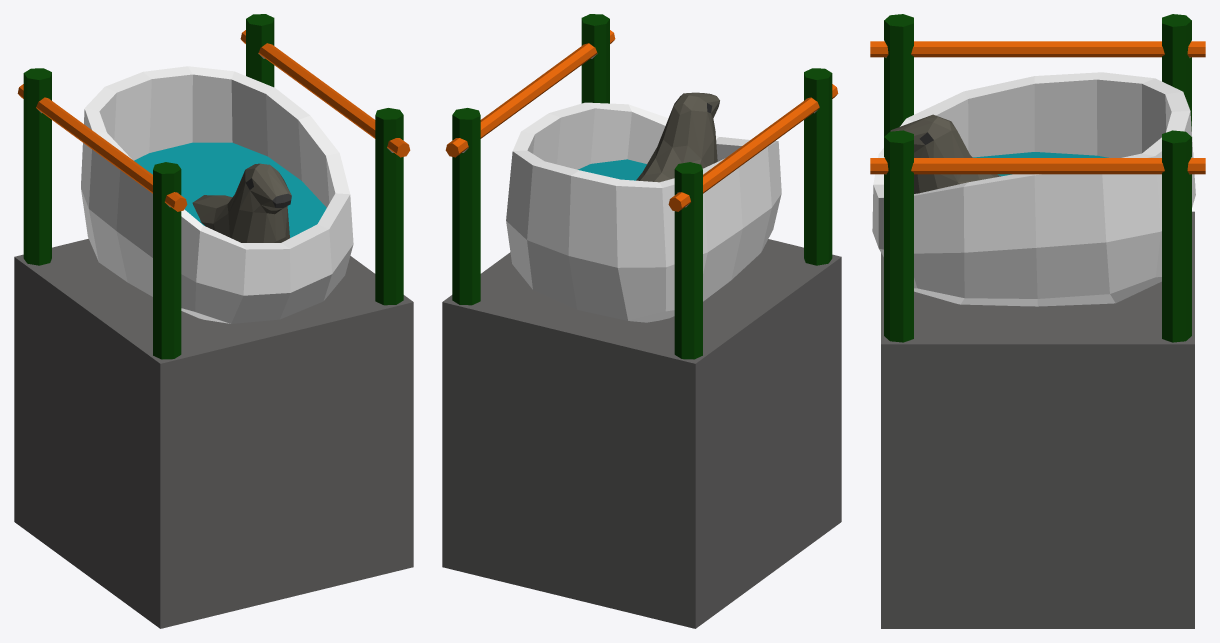
File: level 1 Seal Bathing area.fbx
3 renders of one model, left to right at view 1: azimuth 30°, elevation 25°; view 2: azimuth 150°, elevation 25°; view 3: azimuth 270°, elevation 25°, orthographic. The views are drawn at different scales.
Parts seen in each view (by area): view 1: Seal bathing Area; view 2: Seal bathing Area; view 3: Seal bathing Area.
Boxes of the visible parts, x1=… form: Seal bathing Area: x1=14, y1=14, x2=413, y2=628; Seal bathing Area: x1=442, y1=14, x2=841, y2=628; Seal bathing Area: x1=870, y1=14, x2=1205, y2=628.
Bounding box in the file's own units: 100 × 170 × 107.
